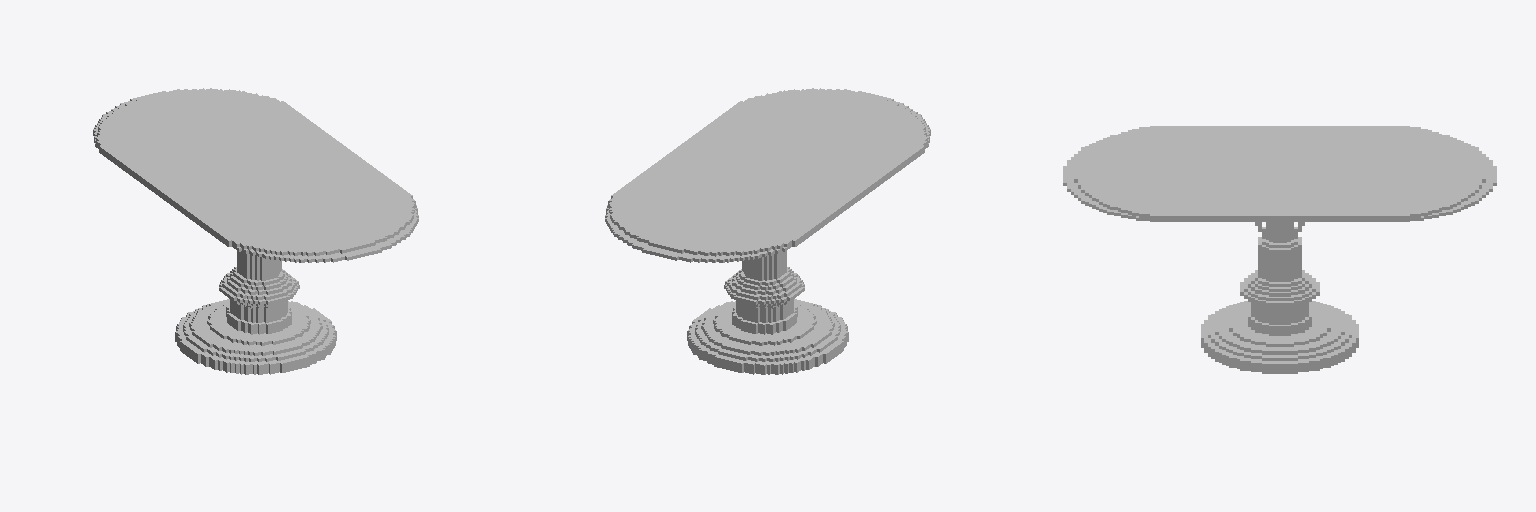
File: table.obj
3 views of the same model, side by side, from view 1: azimuth 30°, elevation 25°; view 2: azimuth 150°, elevation 25°; view 3: azimuth 270°, elevation 25° (orthographic).
Visible parts, largest first — view 1: object 1; view 2: object 1; view 3: object 1.
Part boxes in pixels (x1,y1,x2,y2): object 1: (93,88,418,374); object 1: (605,88,930,374); object 1: (1063,126,1496,373).
Bounding box in the file's own units: 5.9 × 5.2 × 12.